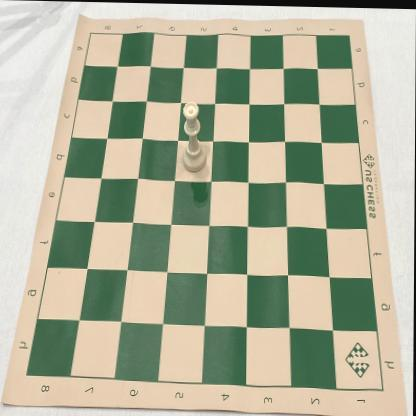white-queen: (182, 100, 208, 173)
